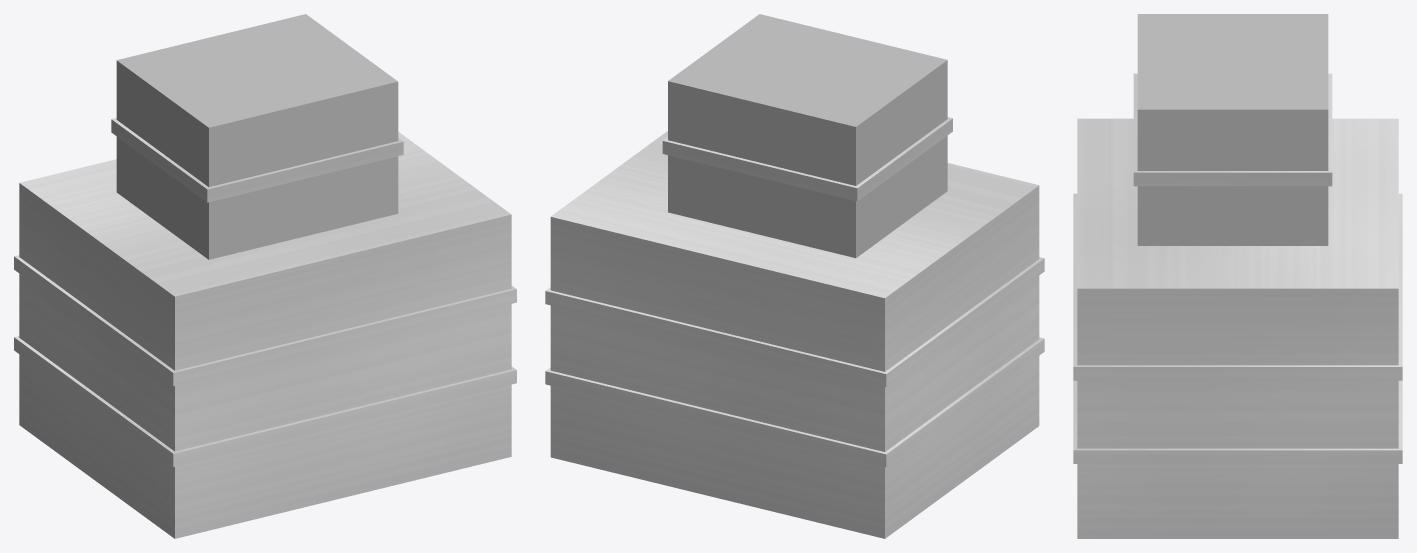
File: ruin_crate.obj
3 renders of one model, left to right at view 1: azimuth 30°, elevation 25°; view 2: azimuth 150°, elevation 25°; view 3: azimuth 270°, elevation 25°, orthographic. The views are drawn at different scales.
Parts seen in each view (by area): view 1: ruin_crate; view 2: ruin_crate; view 3: ruin_crate.
Boxes of the visible parts, <box> form: ruin_crate: <box>14,14,516,538</box>; ruin_crate: <box>545,14,1044,538</box>; ruin_crate: <box>1073,14,1402,538</box>.
Size of the model in its own units: 0.816 by 0.85 by 0.656.
